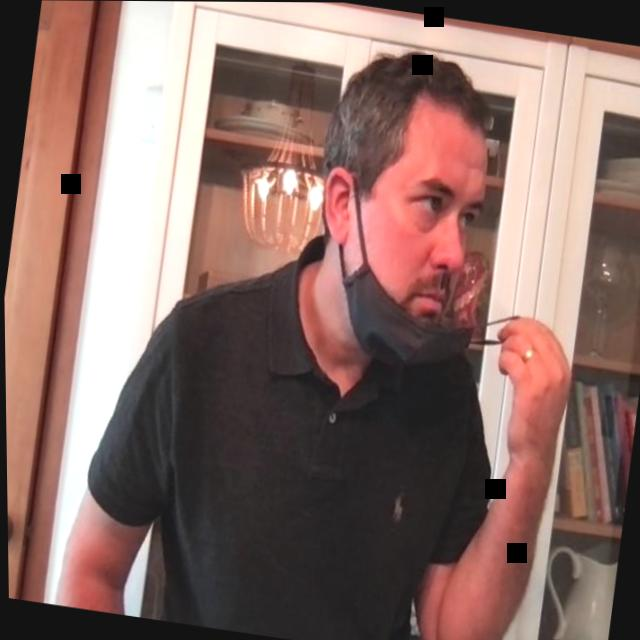NO-Mask: (299, 41, 506, 381)
